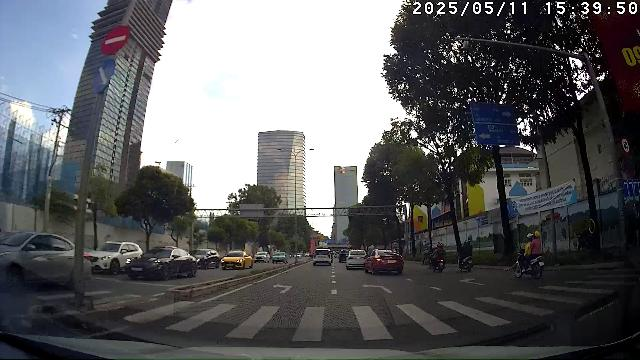102-cam-di-nguoc-chieu: (101, 25, 130, 55)
127-toc-do-toi-da-60: (620, 137, 630, 155)
302a-huong-phai-di-vong-chuong-ngai-vat-1: (91, 58, 117, 93)
